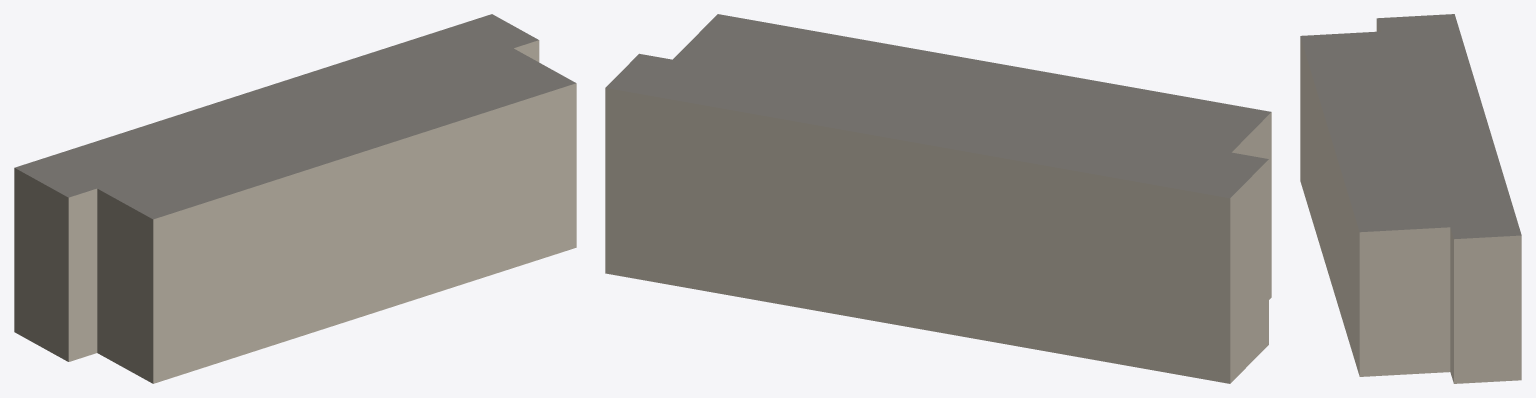
3 renders of one model, left to right at view 1: azimuth 30°, elevation 25°; view 2: azimuth 150°, elevation 25°; view 3: azimuth 270°, elevation 25°, orthographic. The views are drawn at different scales.
Visible parts, largest first — view 1: HP-w505643614; view 2: HP-w505643614; view 3: HP-w505643614.
Part boxes in pixels (x1,y1,x2,y2): HP-w505643614: (14, 14, 576, 383); HP-w505643614: (605, 14, 1271, 383); HP-w505643614: (1300, 14, 1521, 383).
Bounding box in the file's own units: 50.03 × 15 × 20.8.
